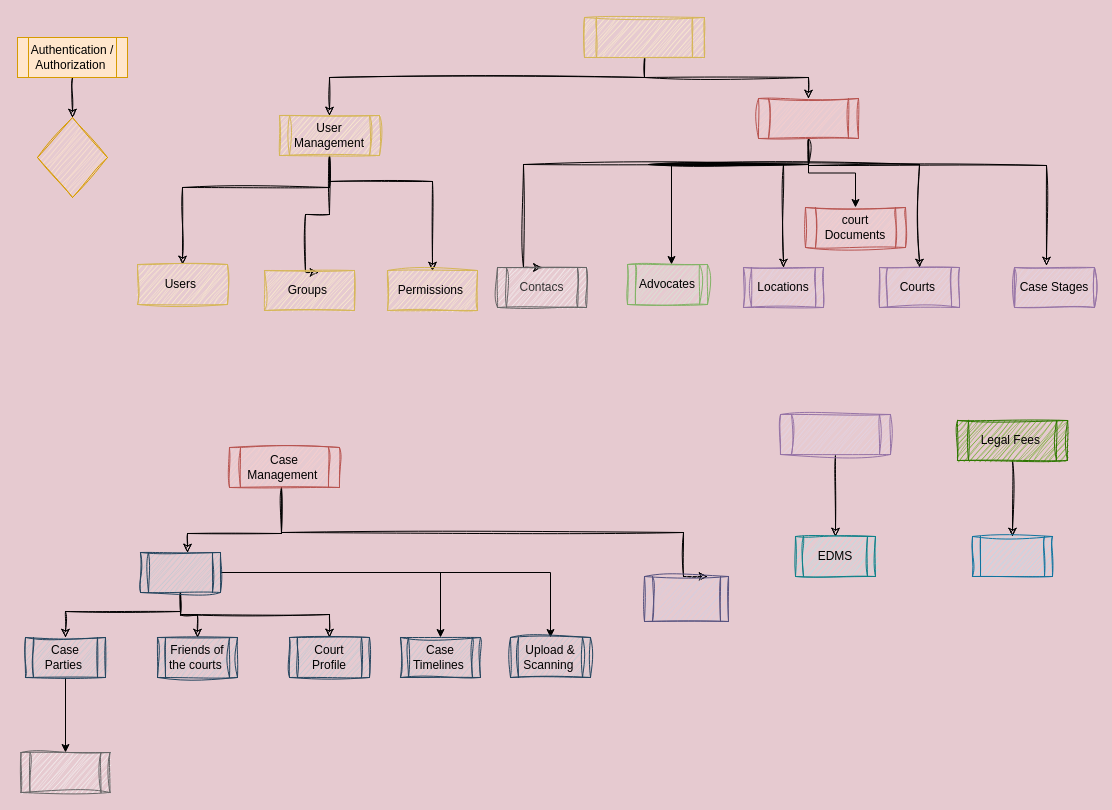
Some shapes in this 1112 by 810 pixel diagram are drawn without their labels. The centre of each missing label's shape, as x and y in pixels:
"Admin Section" belongs at point (644, 37).
"Billling & Receipting" belongs at point (1012, 556).
"Case List" belongs at point (686, 599).
"Categories" belongs at point (808, 118).
"Claimant & Respondent" belongs at point (65, 772).
"File Movement Management" belongs at point (835, 434).
"Is Admin" belongs at point (72, 157).
"New Case" belongs at point (180, 572).
